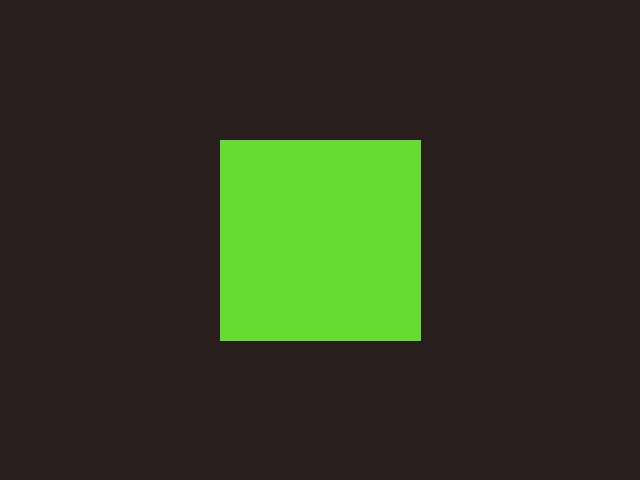Rectangle: (220, 140, 420, 340)
